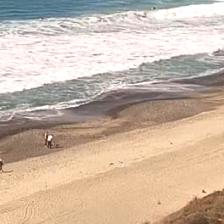surfer: (41, 17, 44, 20), (153, 6, 156, 9)
